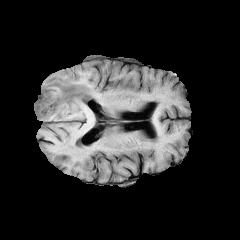glioma: (34, 78, 92, 119)
